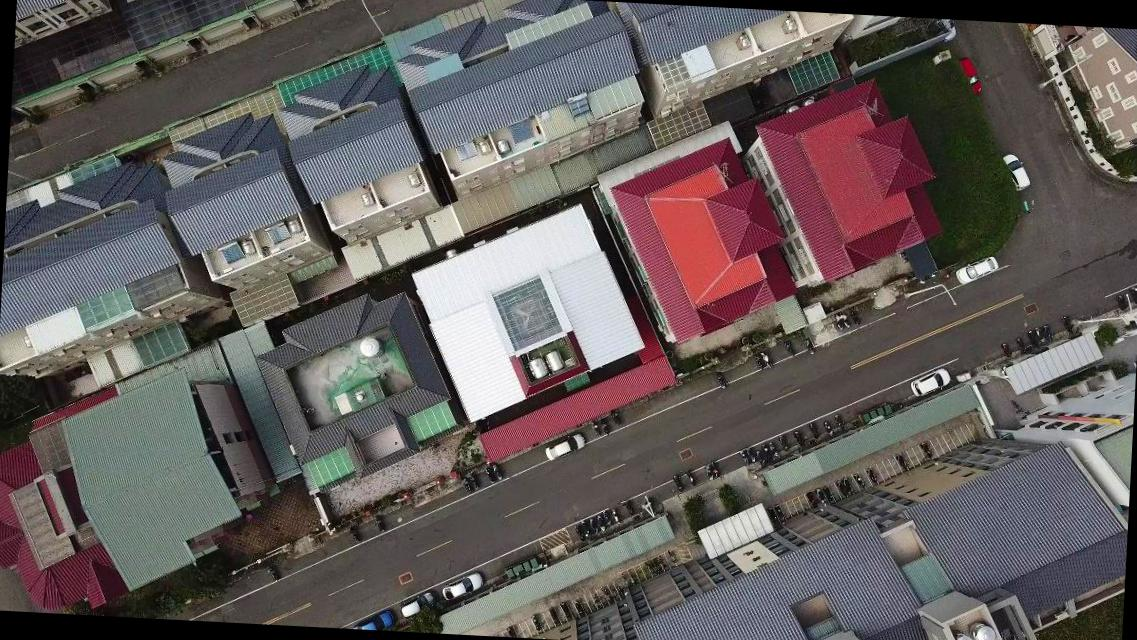vehicle: (952, 253, 999, 287), (439, 570, 482, 606), (908, 364, 952, 399), (542, 432, 586, 465), (398, 588, 439, 622), (998, 151, 1030, 192), (346, 605, 395, 631), (954, 57, 984, 97), (939, 20, 960, 42)
